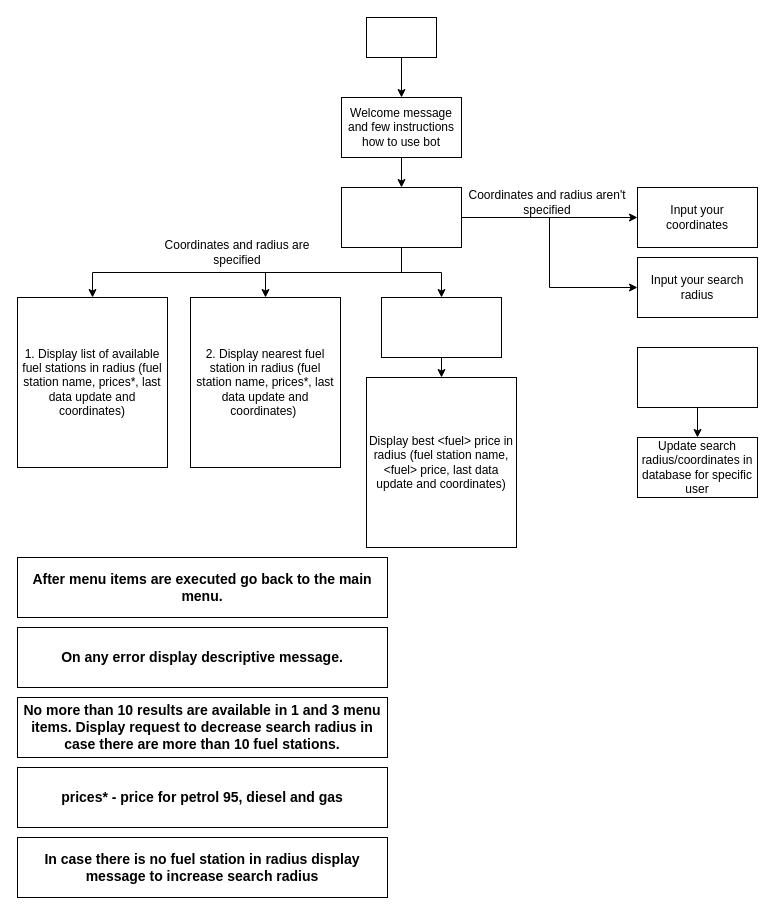
The diagram is 775 pixels wide and 915 high, and some of its shapes have lost their labels. Each missing label, with the box of its shape:
/start: (366, 16, 436, 58)
FUEL TYPE MENU 1. Petrol 2. Diesel 3.Gas: (380, 296, 502, 358)
MAIN MENU: 1. All fuel stations 2. Nearest fuel station 3.Best fuel price: (340, 186, 462, 248)
User sent number (double) or geolacation: (636, 346, 758, 408)
